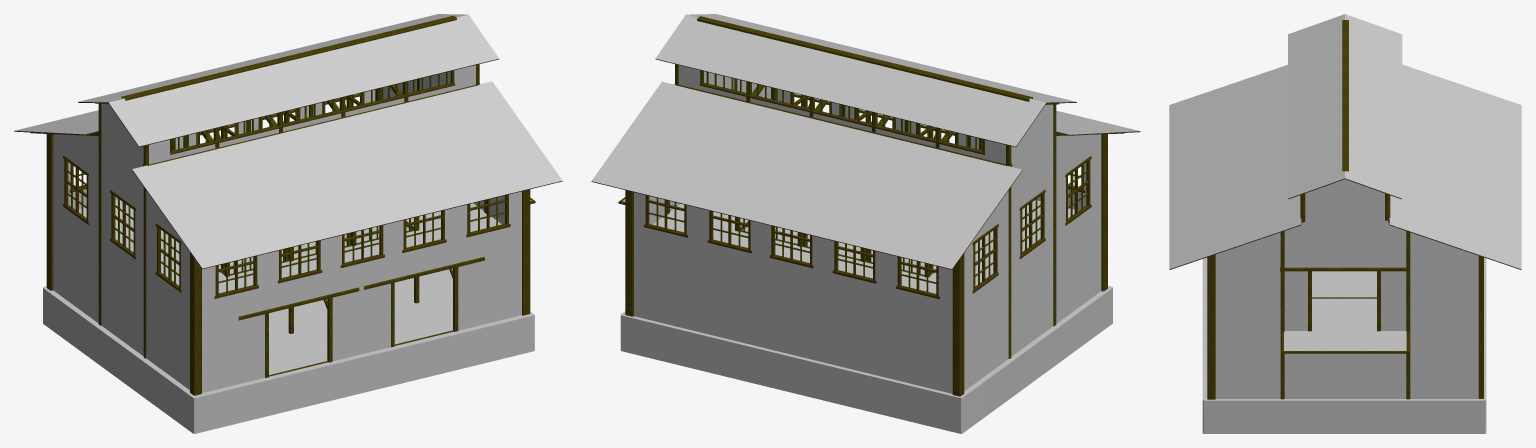
Rendered from GalpaoB_27mai.fbx.
3 renders of one model, left to right at view 1: azimuth 30°, elevation 25°; view 2: azimuth 150°, elevation 25°; view 3: azimuth 270°, elevation 25°, orthographic. The views are drawn at different scales.
Visible parts, largest first — view 1: window6_group38; view 2: window6_group38; view 3: window6_group38.
Boxes of the visible parts, bbox=[...] form: window6_group38: bbox=[14, 14, 562, 433]; window6_group38: bbox=[591, 14, 1140, 433]; window6_group38: bbox=[1169, 14, 1521, 433].
Size of the model in its own units: 2089 by 1417 by 1734.
